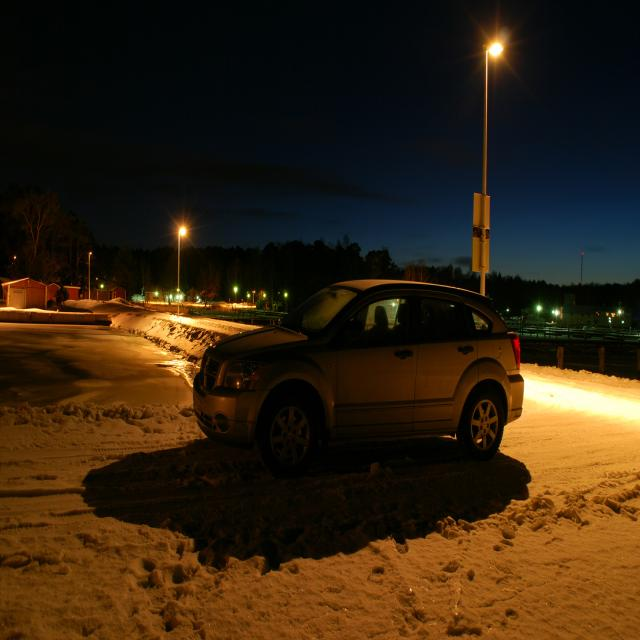Car: (135, 242, 582, 561)
